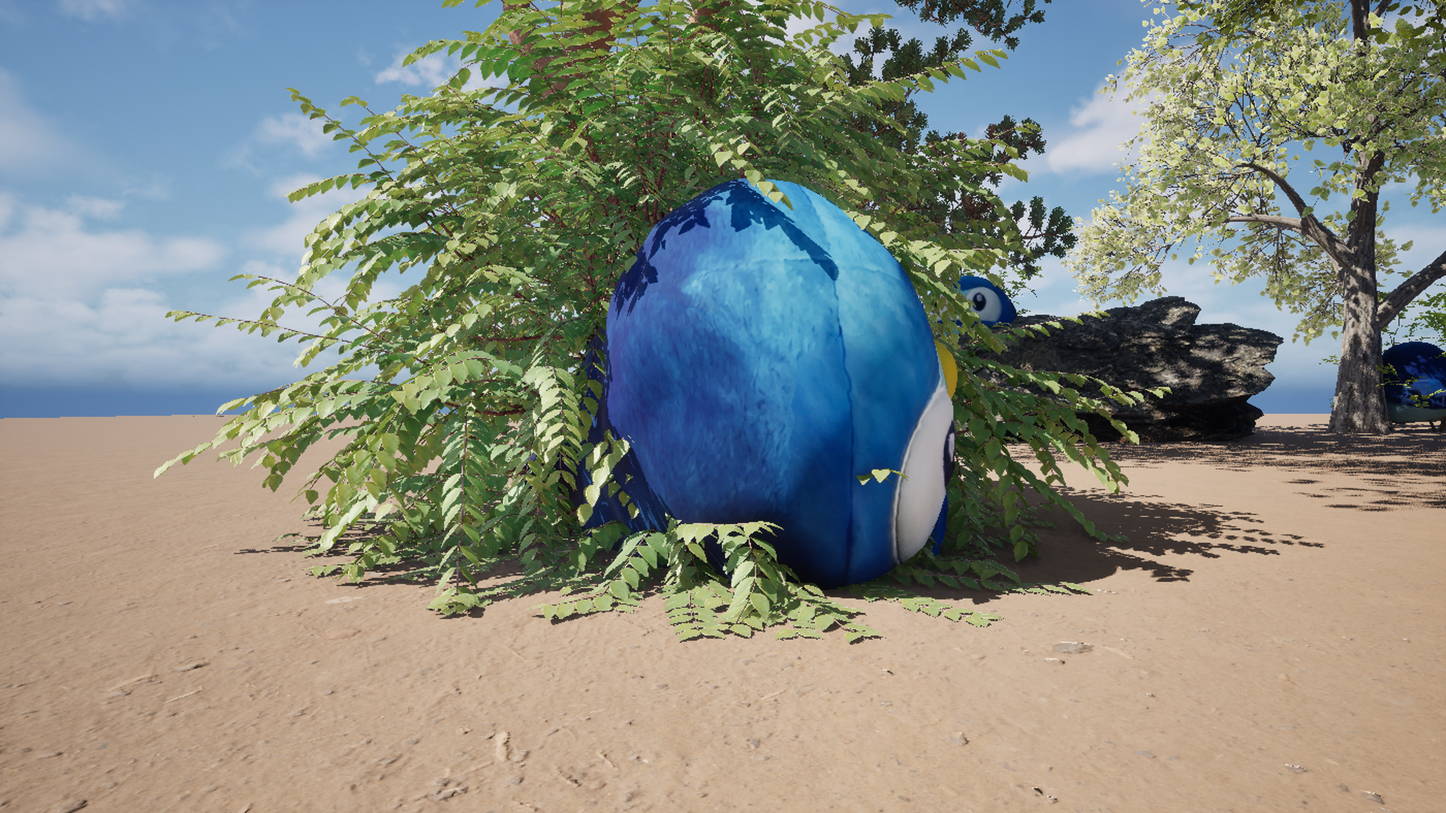Piplup: (385, 0, 1139, 813)
